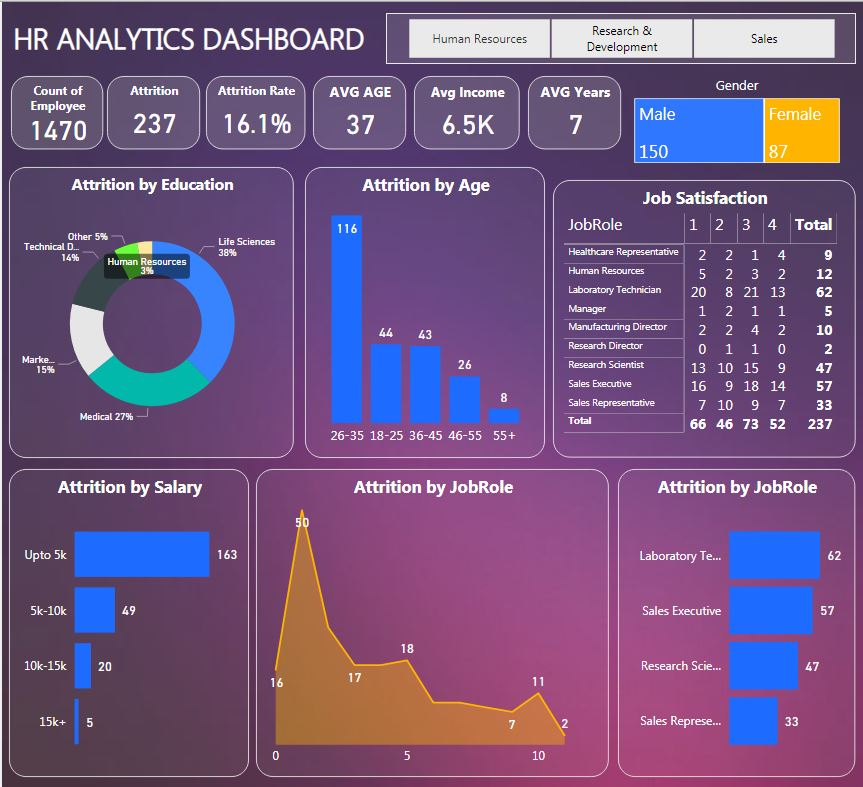

This screenshot's page, from the dashboard's own definition file:
{"tool":"powerbi","page":{"name":"Page 1","canvas":[963,880],"ordinal":0},"visuals":[{"type":"card","title":"Count of Employee","fields":{"Values":["CountNonNull(HR_Analytics.EmpID)"]},"box":[10.1,82.6,102.7,81.5],"z":0},{"type":"pivotTable","title":"Job Satisfaction","fields":{"Rows":["HR_Analytics.JobRole"],"Columns":["HR_Analytics.JobSatisfaction"],"Values":["Sum(HR_Analytics.Attrition count)"]},"box":[615.3,198.8,338.4,310.5],"z":1000},{"type":"treemap","title":"Gender","fields":{"Group":["HR_Analytics.Gender"],"Values":["Sum(HR_Analytics.Attrition count)"]},"box":[701.3,82.6,239,101.6],"z":2000},{"type":"slicer","fields":{"Values":["HR_Analytics.Department"]},"box":[428.8,12.3,524.9,57],"z":3000},{"type":"textbox","box":[7.8,12.3,419.9,59.2],"z":4000},{"type":"card","title":"AVG AGE","fields":{"Values":["Avg(HR_Analytics.Age)"]},"box":[347.3,82.6,103.9,81.5],"z":5000},{"type":"card","title":"Attrition","fields":{"Values":["Sum(HR_Analytics.Attrition count)"]},"box":[117.3,82.6,103.9,81.5],"z":6000},{"type":"card","title":"Attrition Rate","fields":{"Values":["HR_Analytics.Attrition Rate"]},"box":[227.8,82.6,110.6,81.5],"z":7000},{"type":"card","title":"Avg Income","fields":{"Values":["Avg(HR_Analytics.MonthlyIncome)"]},"box":[460.1,82.6,118.4,81.5],"z":8000},{"type":"card","title":"AVG Years","fields":{"Values":["Avg(HR_Analytics.YearsAtCompany)"]},"box":[587.4,82.6,103.9,81.5],"z":9000},{"type":"donutChart","title":"Attrition by Education","fields":{"Category":["HR_Analytics.EducationField"],"Y":["Sum(HR_Analytics.Attrition count)"]},"box":[7.8,184.3,318.3,325],"z":10000},{"type":"columnChart","title":"Attrition by Age","fields":{"Category":["HR_Analytics.AgeGroup"],"Y":["Sum(HR_Analytics.Attrition count)"]},"box":[338.4,184.3,268,325],"z":11000},{"type":"barChart","title":"Attrition by Salary","fields":{"Category":["HR_Analytics.SalarySlab"],"Y":["Sum(HR_Analytics.Attrition count)"]},"box":[7.8,521.5,268,344],"z":12000},{"type":"barChart","title":"Attrition by JobRole","fields":{"Category":["HR_Analytics.JobRole"],"Y":["Sum(HR_Analytics.Attrition count)"]},"box":[687.9,521.5,264.7,344],"z":13000},{"type":"areaChart","title":"Attrition by JobRole","fields":{"Category":["HR_Analytics.YearsAtCompany"],"Y":["Sum(HR_Analytics.Attrition count)"]},"box":[283.7,521.5,394.2,344],"z":14000}]}

Visuals, with their boxes in screenshot pixels (x1, y1, x2, y2), scaled from the page's 963x880 canvas onto the 863x787 screenshot:
"Count of Employee" card: l=9, t=74, r=101, b=147
"Job Satisfaction" pivotTable: l=551, t=178, r=855, b=455
"Gender" treemap: l=628, t=74, r=843, b=165
slicer - HR_Analytics.Department: l=384, t=11, r=855, b=62
textbox: l=7, t=11, r=383, b=64
"AVG AGE" card: l=311, t=74, r=404, b=147
"Attrition" card: l=105, t=74, r=198, b=147
"Attrition Rate" card: l=204, t=74, r=303, b=147
"Avg Income" card: l=412, t=74, r=518, b=147
"AVG Years" card: l=526, t=74, r=620, b=147
"Attrition by Education" donutChart: l=7, t=165, r=292, b=455
"Attrition by Age" columnChart: l=303, t=165, r=543, b=455
"Attrition by Salary" barChart: l=7, t=466, r=247, b=774
"Attrition by JobRole" barChart: l=616, t=466, r=854, b=774
"Attrition by JobRole" areaChart: l=254, t=466, r=608, b=774
